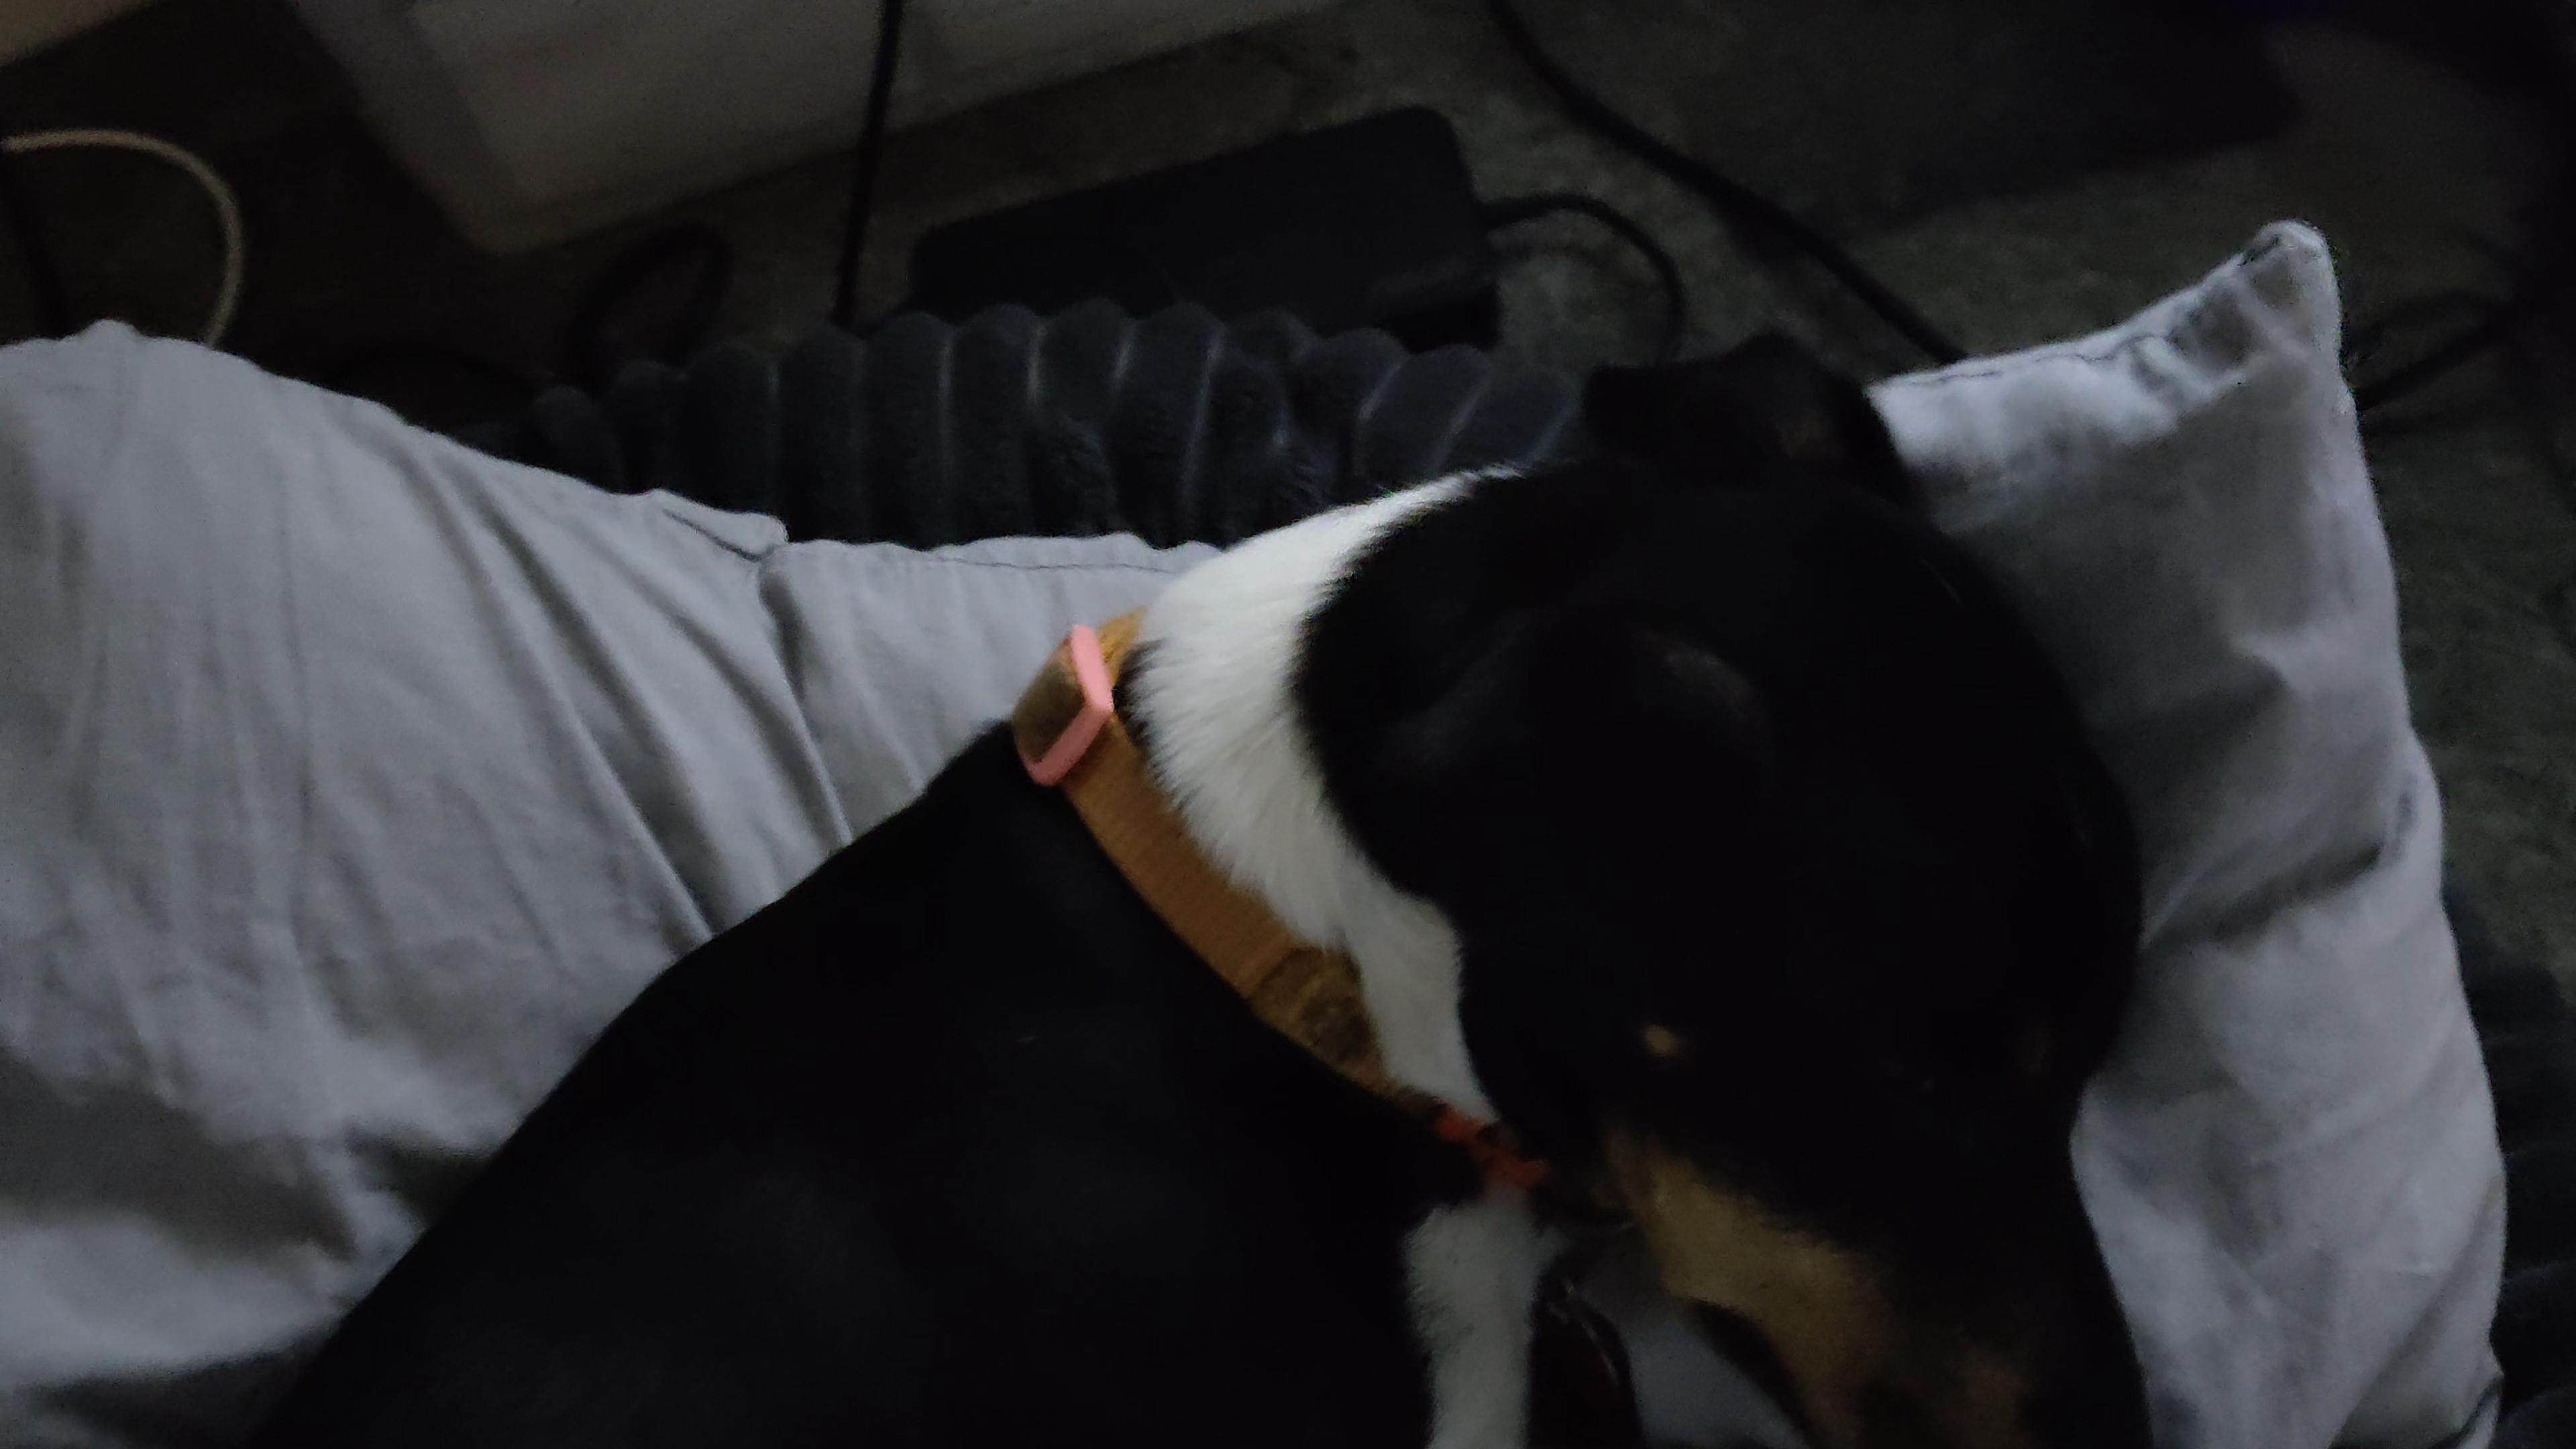Dog: (211, 299, 2196, 1449)
